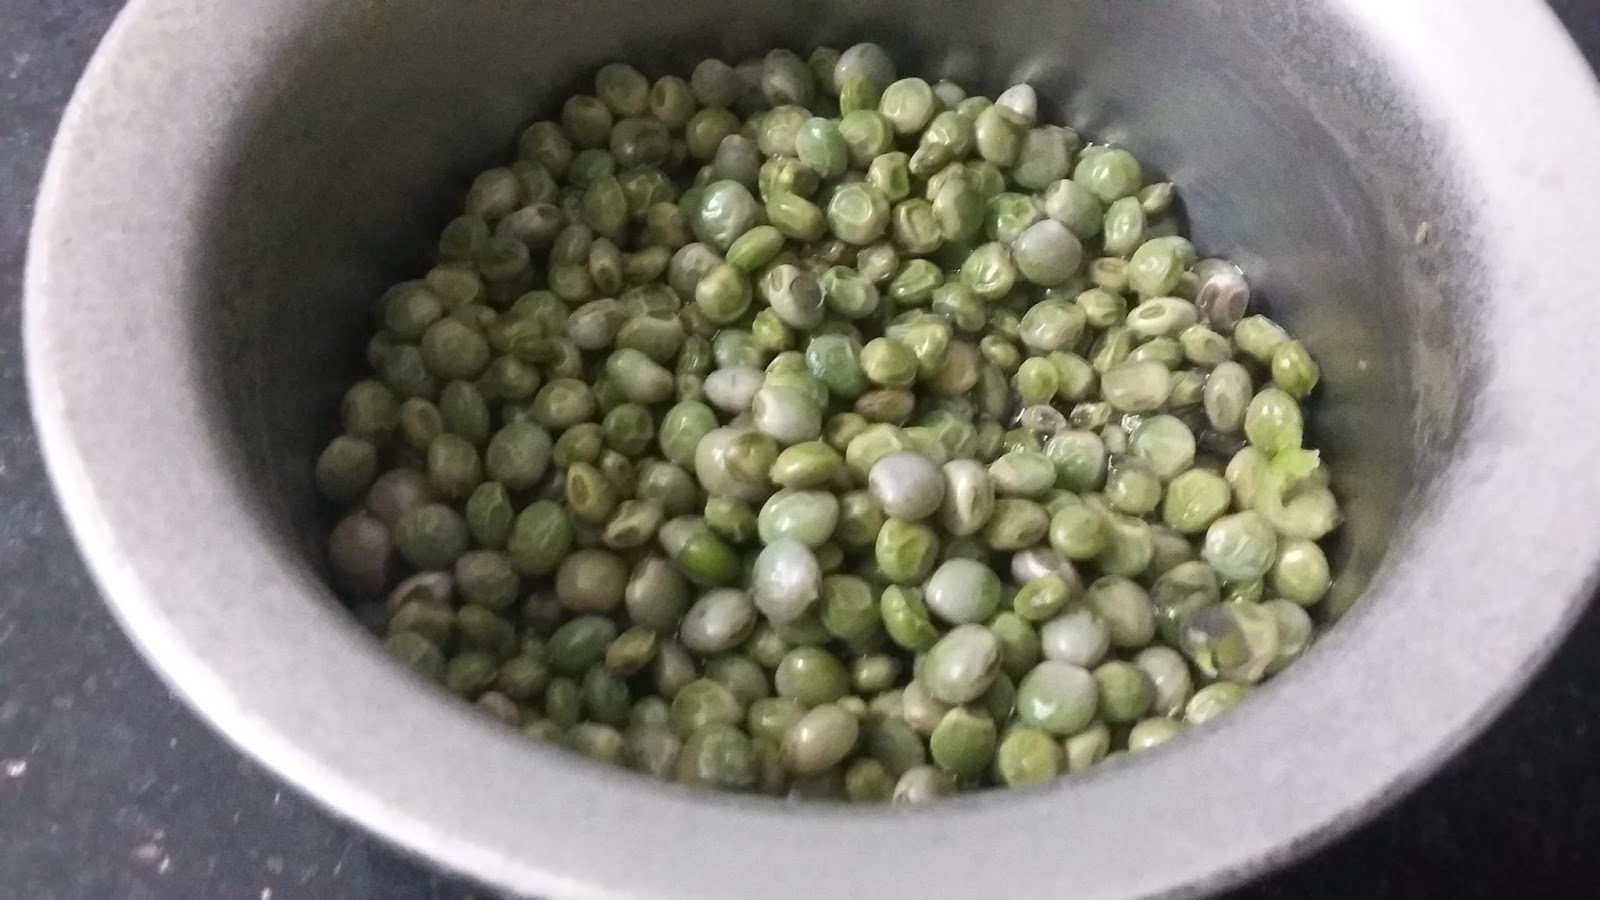boiled peas: (424, 162, 1220, 719)
